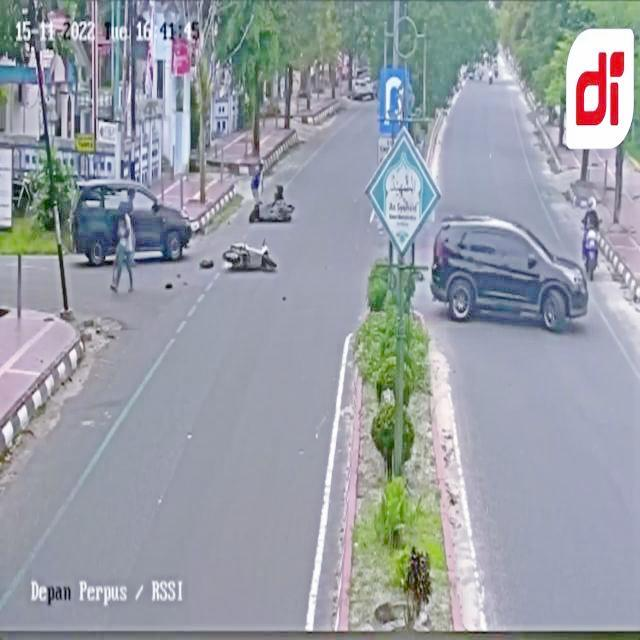Car: (428, 208, 584, 339), (55, 161, 200, 281)
Minor Accident: (219, 201, 291, 274)
Motor: (568, 185, 612, 286), (222, 225, 280, 280), (247, 179, 307, 224)
